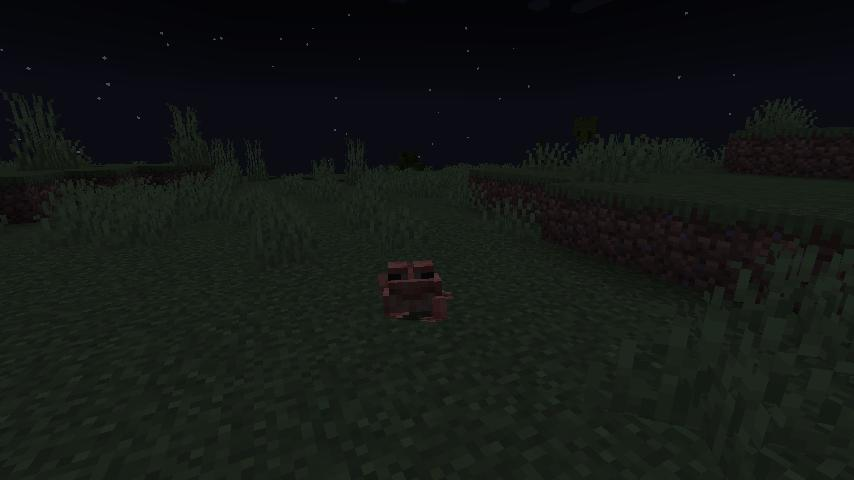frog: (375, 257, 456, 327)
